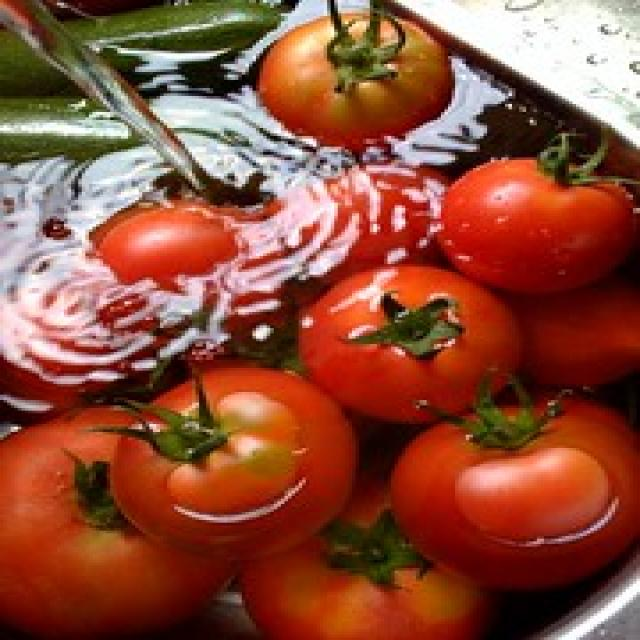Tomato: (0, 407, 234, 626), (386, 396, 640, 596), (105, 364, 358, 560), (238, 470, 499, 640), (291, 263, 523, 420), (420, 152, 630, 292)
